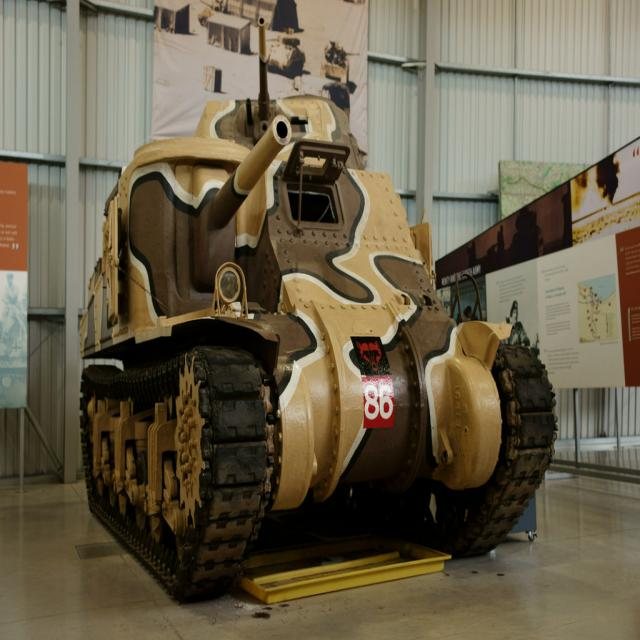tank: (77, 16, 559, 593), (266, 24, 305, 72), (320, 36, 359, 80)
